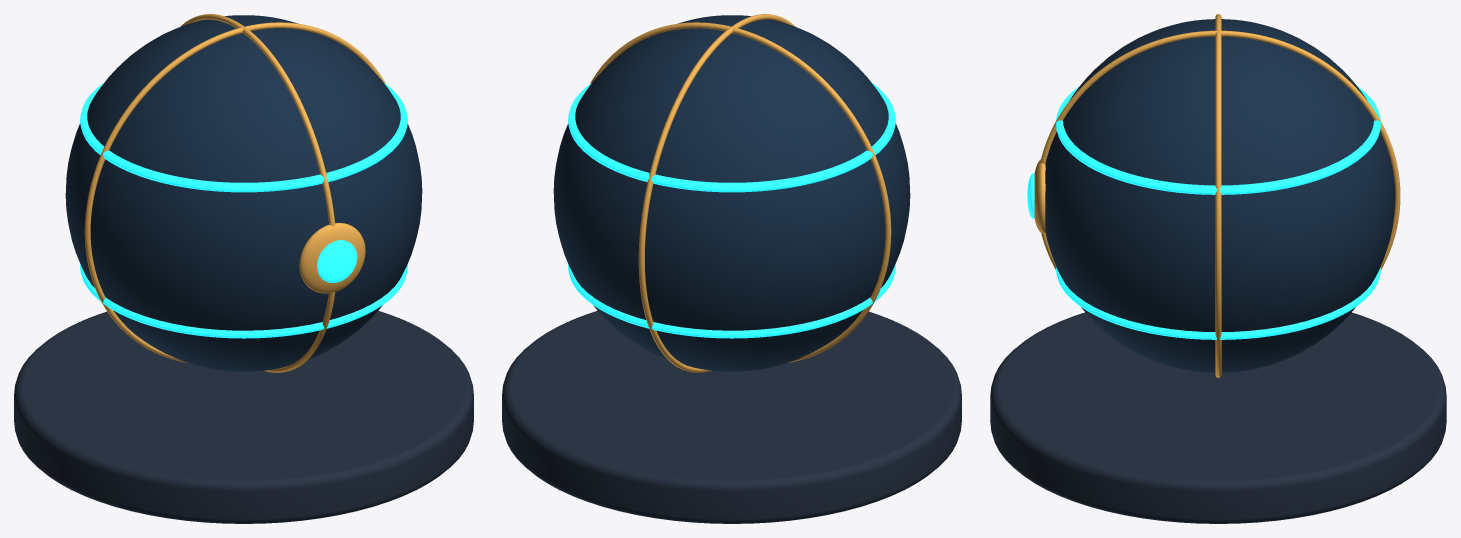
File: hero_ball.glb
3 views of the same model, side by side, from view 1: azimuth 30°, elevation 25°; view 2: azimuth 150°, elevation 25°; view 3: azimuth 270°, elevation 25° (orthographic).
Parts seen in each view (by area): view 1: HERO_RollingLegends_Ball, PREVIEW_Pedestal, DETAIL_Cyan_Equator_2, DETAIL_Cyan_Equator_1, DETAIL_GoldMeridian_3, DETAIL_CoreGold, DETAIL_GoldMeridian_4, DETAIL_CoreCyan, DETAIL_GoldMeridian_1; view 2: HERO_RollingLegends_Ball, PREVIEW_Pedestal, DETAIL_Cyan_Equator_2, DETAIL_Cyan_Equator_1, DETAIL_GoldMeridian_3, DETAIL_GoldMeridian_2, DETAIL_GoldMeridian_1; view 3: HERO_RollingLegends_Ball, PREVIEW_Pedestal, DETAIL_Cyan_Equator_2, DETAIL_Cyan_Equator_1, DETAIL_GoldMeridian_1, DETAIL_GoldMeridian_2, DETAIL_GoldMeridian_4, DETAIL_CoreGold.
Part boxes in pixels (bbox=[...]): HERO_RollingLegends_Ball: bbox=[65, 15, 422, 371]; PREVIEW_Pedestal: bbox=[14, 311, 473, 523]; DETAIL_Cyan_Equator_2: bbox=[80, 82, 407, 192]; DETAIL_Cyan_Equator_1: bbox=[80, 264, 407, 338]; DETAIL_GoldMeridian_3: bbox=[84, 27, 243, 362]; DETAIL_CoreGold: bbox=[299, 223, 365, 293]; DETAIL_GoldMeridian_4: bbox=[243, 27, 335, 372]; DETAIL_CoreCyan: bbox=[317, 240, 357, 282]; DETAIL_GoldMeridian_1: bbox=[244, 22, 385, 83]; HERO_RollingLegends_Ball: bbox=[553, 15, 910, 371]; PREVIEW_Pedestal: bbox=[502, 311, 961, 523]; DETAIL_Cyan_Equator_2: bbox=[568, 82, 895, 192]; DETAIL_Cyan_Equator_1: bbox=[568, 264, 895, 338]; DETAIL_GoldMeridian_3: bbox=[732, 27, 891, 362]; DETAIL_GoldMeridian_2: bbox=[638, 27, 732, 372]; DETAIL_GoldMeridian_1: bbox=[590, 22, 731, 83]; HERO_RollingLegends_Ball: bbox=[1045, 19, 1395, 372]; PREVIEW_Pedestal: bbox=[990, 312, 1446, 523]; DETAIL_Cyan_Equator_2: bbox=[1056, 86, 1380, 194]; DETAIL_Cyan_Equator_1: bbox=[1056, 267, 1380, 339]; DETAIL_GoldMeridian_1: bbox=[1215, 31, 1221, 377]; DETAIL_GoldMeridian_2: bbox=[1219, 30, 1400, 269]; DETAIL_GoldMeridian_4: bbox=[1040, 30, 1217, 269]; DETAIL_CoreGold: bbox=[1034, 159, 1045, 233].
Size of what is drawn, in the model's own units: 1.34 by 1.29 by 1.34.
